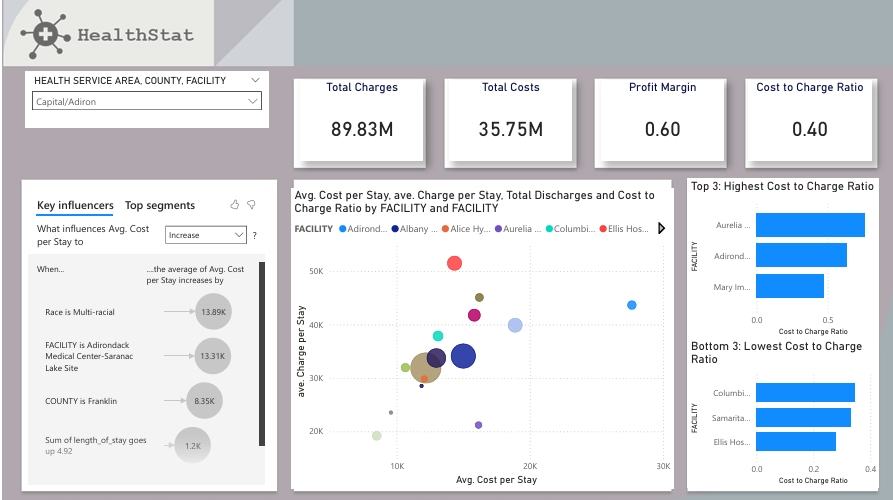

The page's visual inventory and layout, read from the dashboard file:
{"tool":"powerbi","page":{"name":"COST comparison","canvas":[1280,720],"ordinal":2},"visuals":[{"type":"keyDriversVisual","fields":{"Target":["Key Measures.Avg. Cost per Stay"],"ExplainBy":["Dim_Demographics.Gender","Sum(Fact_Admissions.length_of_stay)","Dim_Hospital.HEALTH SERVICE AREA","Dim_Severity.Severity","Fact_Admissions.patient_disposition","Dim_Mortality.Mortality","Dim_Procedure.Procedure","Dim_Hospital.FACILITY","Dim_Demographics.Zip Code","Dim_Diagnosis.Diagnosis","Dim_Hospital.COUNTY","Dim_Demographics.Ethnicity"]},"box":[31.9,268.8,349.4,431.7],"z":0},{"type":"scatterChart","fields":{"X":["Key Measures.Avg. Cost per Stay"],"Y":["Key Measures.ave. Charge per Stay"],"Size":["Key Measures.Total Discharges"],"Category":["Dim_Hospital.FACILITY"],"Series":["Dim_Hospital.FACILITY"]},"box":[413.2,268.8,547.6,431.7],"z":1},{"type":"slicer","fields":{"Values":["Dim_Hospital.HOSPITAL HIERARCHY.HEALTH SERVICE AREA","Dim_Hospital.HOSPITAL HIERARCHY.COUNTY","Dim_Hospital.HOSPITAL HIERARCHY.FACILITY"]},"box":[31.9,102.5,349.4,80.6],"z":2},{"type":"card","title":"Total Charges","fields":{"Values":["Key Measures.Total Charges"]},"box":[426.7,114.2,176.4,115.9],"z":3},{"type":"card","title":"Total Costs","fields":{"Values":["Key Measures.Total Costs"]},"box":[640,114.2,176.4,115.9],"z":4},{"type":"card","title":"Profit Margin","fields":{"Values":["Key Measures.Profit Margin"]},"box":[858.4,114.2,174.7,115.9],"z":5},{"type":"card","title":"Cost to Charge Ratio","fields":{"Values":["Key Measures.Cost to Charge Ratio"]},"box":[1068.3,114.2,176.4,115.9],"z":6},{"type":"clusteredBarChart","title":"Top 3: Highest Cost to Charge Ratio","fields":{"Y":["Key Measures.Cost to Charge Ratio"],"Category":["Dim_Hospital.FACILITY"]},"box":[981,255.3,275.5,230.1],"z":7},{"type":"barChart","title":"Bottom 3: Lowest Cost to Charge Ratio","fields":{"Y":["Key Measures.Cost to Charge Ratio"],"Category":["Dim_Hospital.FACILITY"]},"box":[981,485.5,275.5,215],"z":8}]}

Visuals, with their boxes in screenshot pixels (x1, y1, x2, y2), scaled from the page's 1280x720 canvas onto the 893x500 screenshot:
keyDriversVisual - Key Measures.Avg. Cost per Stay x Dim_Demographics.Gender: Rect(22, 187, 266, 486)
scatterChart - Key Measures.Avg. Cost per Stay x Key Measures.ave. Charge per Stay: Rect(288, 187, 670, 486)
slicer - Dim_Hospital.HOSPITAL HIERARCHY.HEALTH SERVICE AREA x Dim_Hospital.HOSPITAL HIERARCHY.COUNTY: Rect(22, 71, 266, 127)
"Total Charges" card: Rect(298, 79, 421, 160)
"Total Costs" card: Rect(446, 79, 570, 160)
"Profit Margin" card: Rect(599, 79, 721, 160)
"Cost to Charge Ratio" card: Rect(745, 79, 868, 160)
"Top 3: Highest Cost to Charge Ratio" clusteredBarChart: Rect(684, 177, 877, 337)
"Bottom 3: Lowest Cost to Charge Ratio" barChart: Rect(684, 337, 877, 486)
